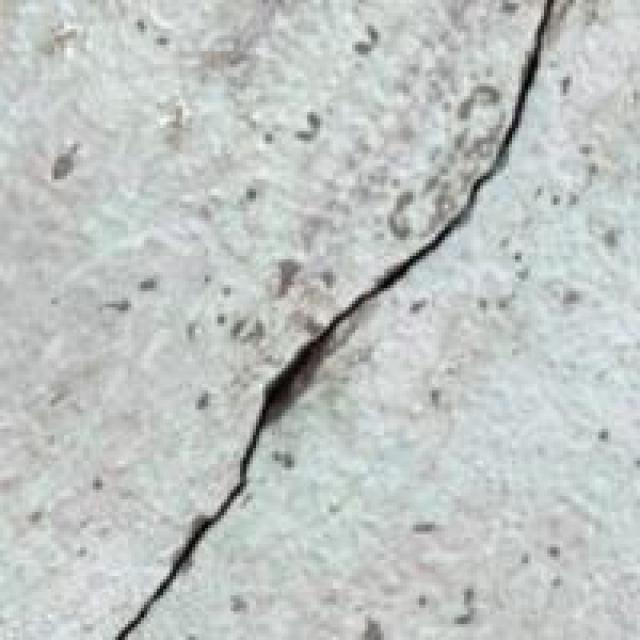crack: (96, 0, 586, 637)
